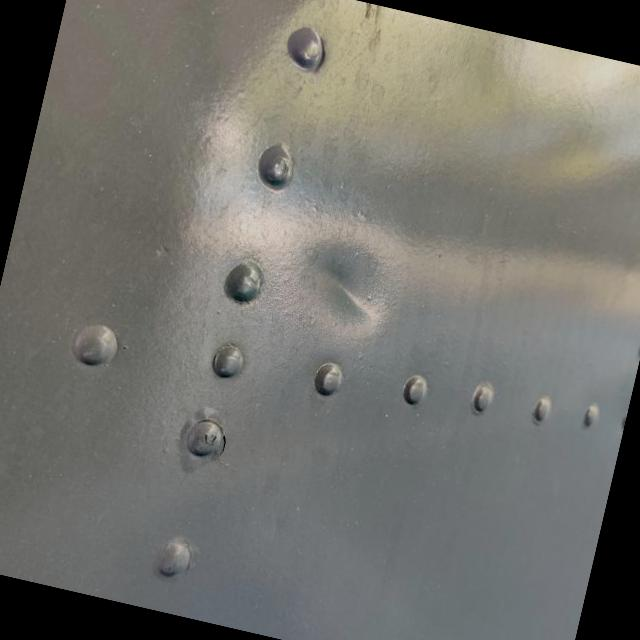dent: (241, 200, 438, 387)
